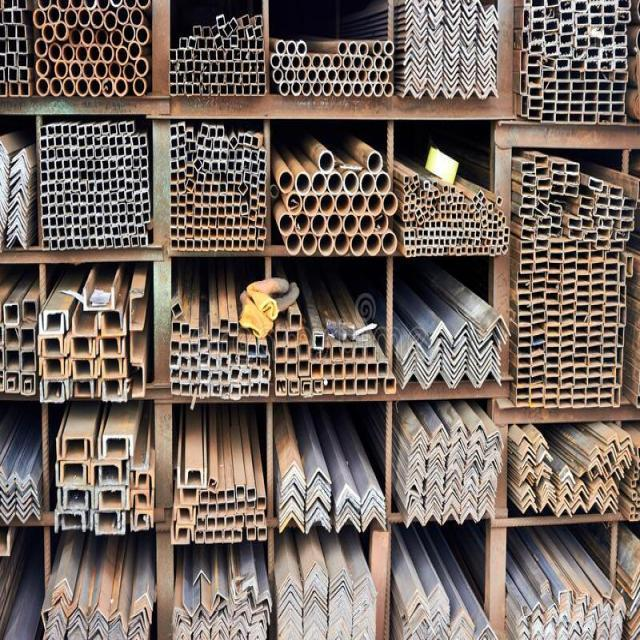pipe: (317, 150, 334, 173), (343, 171, 359, 195), (312, 171, 327, 196), (367, 150, 382, 175), (310, 214, 327, 236), (327, 171, 343, 194), (318, 233, 334, 256), (279, 169, 294, 193), (376, 171, 391, 195), (383, 192, 398, 216), (382, 230, 397, 254), (302, 232, 317, 256), (286, 232, 301, 256), (351, 192, 366, 216), (296, 172, 311, 195), (366, 233, 381, 256), (334, 232, 349, 255), (336, 194, 351, 217), (360, 173, 375, 196), (367, 193, 382, 216), (351, 233, 365, 257), (360, 212, 374, 236), (295, 212, 309, 235), (304, 193, 318, 216), (320, 193, 334, 216), (327, 213, 341, 235), (186, 468, 203, 486), (279, 213, 293, 234), (287, 193, 301, 214), (344, 214, 358, 235), (375, 212, 387, 232), (383, 40, 395, 56), (313, 331, 324, 348), (301, 379, 312, 396), (279, 81, 290, 98), (296, 40, 307, 57), (290, 314, 302, 329), (276, 380, 287, 396), (276, 39, 287, 55), (277, 331, 287, 348), (291, 80, 301, 97), (359, 41, 369, 58), (363, 55, 373, 72), (286, 40, 296, 57), (529, 75, 541, 89), (372, 41, 383, 56), (281, 53, 290, 71), (379, 362, 389, 378), (599, 72, 615, 82), (384, 82, 394, 98), (273, 68, 283, 84), (348, 41, 358, 57), (332, 54, 342, 70), (312, 54, 322, 70), (572, 70, 586, 81), (343, 81, 352, 98), (333, 80, 342, 97), (384, 56, 393, 73), (299, 361, 309, 376), (356, 380, 366, 395), (604, 273, 619, 283), (373, 82, 383, 97), (363, 82, 373, 97), (353, 82, 363, 97), (270, 54, 280, 69), (338, 41, 348, 56), (353, 55, 363, 70), (322, 54, 332, 69), (291, 56, 301, 71), (520, 51, 527, 72), (550, 205, 562, 217), (323, 81, 332, 97), (374, 56, 383, 72), (276, 348, 287, 361), (606, 251, 619, 262), (591, 315, 604, 326), (538, 204, 549, 217), (582, 196, 595, 207), (599, 115, 612, 126), (603, 15, 616, 26), (556, 112, 569, 123), (570, 114, 583, 125), (532, 7, 545, 18), (532, 19, 545, 30), (561, 12, 574, 23), (289, 332, 299, 346), (312, 364, 322, 378), (322, 348, 332, 362), (357, 364, 367, 378), (367, 380, 377, 394), (386, 379, 396, 393), (289, 381, 299, 395), (575, 337, 589, 347), (569, 218, 583, 228), (567, 174, 581, 184), (609, 188, 623, 198), (517, 387, 531, 397), (518, 327, 532, 337), (517, 348, 531, 358), (557, 82, 571, 92), (522, 30, 529, 50), (576, 36, 590, 46), (288, 347, 297, 362), (300, 345, 309, 360), (335, 380, 344, 395), (230, 322, 239, 337), (523, 198, 538, 207), (312, 81, 321, 96), (591, 179, 603, 190), (561, 356, 573, 367), (589, 366, 601, 377), (591, 14, 602, 26), (558, 70, 570, 81), (276, 363, 286, 376), (311, 349, 321, 362), (323, 380, 333, 393), (333, 347, 343, 360), (334, 364, 344, 377), (346, 380, 356, 393), (366, 347, 376, 360), (368, 364, 378, 377), (237, 341, 247, 354), (13, 11, 23, 24), (602, 376, 615, 386), (577, 285, 590, 295), (574, 357, 587, 367), (591, 304, 604, 314), (592, 252, 605, 262), (584, 232, 597, 242), (552, 163, 565, 173), (539, 217, 552, 227), (523, 187, 536, 197), (522, 164, 535, 174), (579, 209, 592, 219), (599, 219, 612, 229), (548, 316, 561, 326), (532, 345, 545, 355), (521, 262, 534, 272), (518, 315, 531, 325), (519, 337, 532, 347), (599, 81, 612, 91), (544, 81, 557, 91), (543, 92, 556, 102), (356, 348, 365, 362), (217, 15, 226, 29), (224, 23, 233, 37), (247, 25, 256, 39), (613, 115, 627, 124), (611, 104, 625, 113), (627, 256, 633, 277), (565, 187, 579, 196), (538, 180, 552, 189), (615, 230, 629, 239), (532, 312, 546, 321), (518, 304, 532, 313), (564, 262, 578, 271), (615, 72, 629, 81), (618, 1, 632, 10), (543, 70, 557, 79), (556, 92, 570, 101), (570, 104, 584, 113), (302, 55, 311, 69), (551, 227, 562, 238), (602, 38, 613, 49), (604, 4, 615, 15), (584, 113, 595, 124), (531, 31, 542, 42), (215, 34, 223, 49), (578, 274, 590, 284), (552, 185, 564, 195), (536, 157, 548, 167), (536, 251, 548, 261), (538, 228, 550, 238), (611, 199, 623, 209), (625, 199, 637, 209), (550, 242, 562, 252), (547, 346, 559, 356), (533, 292, 545, 302), (574, 398, 586, 408), (601, 61, 613, 71), (585, 102, 597, 112), (557, 102, 569, 112), (521, 74, 527, 94), (524, 7, 530, 27), (530, 99, 542, 109), (560, 35, 572, 45), (577, 25, 589, 35), (577, 15, 589, 25), (323, 365, 332, 378), (345, 364, 354, 377), (242, 15, 251, 28), (602, 367, 615, 376), (604, 326, 617, 335), (592, 294, 605, 303), (552, 175, 565, 184), (523, 219, 536, 228), (536, 239, 549, 248), (548, 305, 561, 314), (561, 346, 574, 355), (564, 285, 577, 294), (598, 104, 611, 113), (598, 93, 611, 102), (614, 36, 627, 45), (585, 93, 598, 102), (585, 82, 598, 91), (585, 72, 598, 81), (572, 82, 585, 91), (571, 94, 584, 103), (560, 2, 573, 11), (302, 82, 311, 95), (315, 381, 323, 395), (211, 24, 219, 38), (230, 17, 238, 31), (20, 83, 28, 97), (603, 357, 617, 365), (570, 230, 584, 238), (536, 168, 550, 176), (523, 177, 537, 185), (532, 303, 546, 311), (518, 272, 532, 280), (518, 294, 532, 302), (559, 398, 573, 406), (617, 13, 631, 21), (541, 114, 555, 122), (527, 66, 541, 74), (528, 55, 542, 63), (593, 283, 604, 293), (598, 197, 609, 207), (548, 273, 559, 283), (587, 397, 598, 407), (603, 26, 614, 36), (248, 344, 257, 356), (231, 387, 240, 399), (19, 69, 28, 81), (218, 504, 227, 516), (604, 347, 616, 356), (576, 315, 588, 324), (592, 273, 604, 282), (538, 191, 550, 200), (596, 209, 608, 218), (622, 210, 634, 219), (546, 293, 558, 302), (547, 336, 559, 345), (533, 280, 545, 289), (576, 368, 588, 377), (602, 50, 614, 59), (612, 93, 624, 102), (615, 61, 627, 70), (544, 103, 556, 112), (587, 62, 599, 71), (530, 43, 542, 52), (574, 50, 586, 59), (615, 386, 620, 407), (345, 348, 353, 361), (251, 368, 259, 381), (211, 328, 219, 341), (231, 370, 239, 383), (200, 339, 208, 352), (171, 341, 179, 354), (10, 83, 18, 96), (226, 517, 234, 530), (605, 285, 618, 293), (612, 242, 625, 250), (577, 327, 590, 335), (546, 285, 559, 293), (545, 399, 558, 407), (532, 324, 545, 332), (517, 399, 530, 407), (517, 369, 530, 377), (561, 336, 574, 344), (564, 252, 577, 260), (571, 60, 584, 68), (527, 110, 540, 118), (545, 22, 558, 30), (559, 47, 572, 55), (561, 25, 574, 33), (618, 328, 624, 345), (620, 287, 626, 304), (591, 26, 601, 36), (182, 385, 191, 396), (3, 12, 12, 23), (8, 41, 17, 52), (6, 54, 15, 65), (199, 505, 208, 516), (611, 210, 622, 219), (533, 366, 544, 375), (615, 24, 626, 33), (575, 3, 586, 12), (201, 354, 208, 368), (182, 324, 189, 338), (604, 317, 618, 324), (577, 243, 591, 250), (620, 222, 634, 229), (531, 377, 545, 384), (261, 383, 269, 395), (239, 355, 247, 367), (212, 385, 220, 397), (201, 370, 209, 382), (171, 369, 179, 381), (171, 356, 179, 368), (190, 371, 198, 383), (19, 41, 27, 53), (18, 56, 26, 68), (259, 528, 267, 540), (196, 531, 204, 543), (617, 349, 623, 365), (600, 398, 612, 406), (604, 337, 616, 345), (589, 335, 601, 343), (567, 164, 579, 172), (522, 231, 534, 239), (583, 220, 595, 228), (549, 254, 561, 262), (548, 327, 560, 335), (547, 358, 559, 366), (547, 377, 559, 385), (532, 398, 544, 406), (537, 263, 549, 271), (561, 370, 573, 378), (562, 315, 574, 323), (587, 389, 599, 397), (589, 378, 601, 386), (574, 388, 586, 396), (557, 60, 569, 68), (530, 89, 542, 97), (222, 386, 229, 399), (182, 343, 189, 356), (182, 358, 189, 371), (8, 26, 15, 39), (210, 491, 217, 504), (600, 388, 613, 395), (605, 306, 618, 313), (606, 297, 619, 304), (606, 265, 619, 272), (522, 244, 535, 251), (521, 254, 534, 261), (565, 242, 578, 249), (530, 388, 543, 395), (518, 283, 531, 290), (517, 379, 530, 386), (563, 296, 576, 303), (575, 379, 588, 386), (260, 357, 269, 367), (249, 357, 258, 367), (190, 330, 199, 340), (207, 518, 216, 528), (621, 307, 626, 325), (621, 264, 626, 282), (578, 263, 588, 272), (592, 326, 602, 335), (591, 5, 601, 14), (588, 49, 598, 58), (259, 345, 267, 356), (201, 385, 209, 396), (172, 383, 180, 394), (169, 50, 177, 61), (202, 62, 210, 73), (251, 85, 259, 96), (227, 84, 235, 95), (9, 69, 17, 80), (197, 518, 205, 529), (590, 347, 601, 355), (546, 388, 557, 396), (251, 383, 258, 395), (220, 341, 227, 353), (221, 319, 228, 331), (242, 373, 249, 385), (173, 322, 180, 334), (191, 343, 198, 355), (220, 84, 227, 96), (237, 486, 244, 498), (577, 297, 589, 304), (576, 307, 588, 314), (546, 368, 558, 375), (518, 360, 530, 367), (559, 389, 571, 396), (562, 379, 574, 386), (562, 307, 574, 314), (615, 49, 627, 56), (546, 47, 558, 54), (544, 34, 556, 41), (590, 39, 599, 48), (288, 365, 296, 375), (181, 372, 189, 382), (202, 85, 210, 95), (207, 39, 215, 49), (194, 27, 202, 37), (189, 38, 197, 48), (248, 529, 256, 539), (218, 491, 226, 501), (217, 517, 225, 527), (186, 166, 194, 176), (412, 173, 420, 183), (616, 367, 621, 383), (523, 95, 527, 115), (211, 356, 217, 369), (192, 384, 198, 397), (191, 357, 197, 370), (0, 82, 6, 95), (592, 264, 605, 270), (534, 274, 547, 280), (211, 343, 218, 354), (222, 356, 229, 367), (170, 73, 177, 84), (187, 60, 194, 71), (202, 50, 209, 61), (224, 39, 231, 50), (256, 16, 263, 27), (231, 36, 238, 47), (242, 40, 249, 51), (249, 39, 256, 50), (242, 62, 249, 73), (244, 85, 251, 96), (18, 26, 25, 37), (141, 157, 148, 168), (258, 498, 265, 509), (237, 501, 244, 512), (206, 531, 213, 542), (228, 503, 235, 514), (227, 217, 234, 228), (241, 215, 248, 226), (219, 205, 226, 216), (244, 172, 251, 183), (578, 253, 589, 260), (575, 348, 586, 355), (549, 264, 560, 271), (532, 356, 543, 363), (591, 358, 602, 365), (263, 369, 269, 381), (241, 387, 249, 396), (212, 373, 220, 382), (171, 240, 179, 249), (194, 241, 202, 250), (259, 229, 267, 238), (193, 50, 201, 59), (83, 238, 89, 250), (3, 1, 12, 9), (187, 152, 193, 164), (246, 516, 254, 525), (216, 530, 222, 542), (210, 506, 216, 518), (241, 205, 249, 214), (198, 172, 204, 184), (203, 161, 211, 170), (221, 140, 229, 149), (218, 196, 227, 204), (252, 136, 258, 148), (245, 149, 251, 161), (533, 336, 545, 342), (562, 327, 574, 333), (565, 276, 577, 282), (614, 84, 626, 90), (546, 9, 555, 17), (171, 183, 178, 193), (256, 217, 263, 227), (185, 73, 192, 83), (202, 74, 209, 84), (203, 28, 210, 38), (180, 39, 187, 49), (218, 74, 225, 84), (226, 73, 233, 83), (234, 74, 241, 84), (251, 74, 258, 84), (236, 85, 243, 95), (211, 85, 218, 95), (255, 28, 262, 38), (95, 172, 102, 182), (102, 137, 109, 147), (57, 216, 64, 226), (65, 205, 72, 215), (143, 213, 150, 223), (126, 191, 133, 201), (133, 158, 140, 168), (190, 141, 197, 151), (202, 218, 209, 228), (256, 514, 263, 524), (235, 517, 242, 527), (225, 530, 232, 540), (214, 140, 221, 150), (218, 127, 225, 137), (212, 161, 219, 171), (214, 173, 221, 183), (244, 134, 251, 144), (251, 163, 258, 173), (598, 242, 608, 249), (231, 355, 237, 366), (171, 126, 177, 137), (210, 239, 216, 250), (258, 239, 264, 250), (238, 28, 244, 39), (42, 206, 48, 217), (79, 126, 85, 137), (71, 125, 77, 136), (119, 124, 125, 135), (142, 180, 148, 191), (235, 530, 241, 541), (201, 490, 207, 501), (227, 490, 233, 501), (234, 205, 240, 216), (252, 151, 258, 162), (497, 196, 503, 207), (598, 231, 609, 237), (532, 0, 545, 5), (198, 40, 206, 48), (131, 238, 139, 246), (170, 161, 178, 169), (553, 218, 561, 226), (186, 228, 193, 237), (259, 206, 266, 215), (170, 85, 177, 94), (177, 74, 184, 83), (194, 73, 201, 82), (178, 63, 185, 72), (226, 51, 233, 60), (259, 86, 266, 95), (241, 51, 248, 60), (219, 63, 226, 72), (227, 62, 234, 71), (243, 74, 250, 83), (43, 240, 50, 249), (49, 217, 56, 226), (50, 228, 57, 237), (60, 240, 67, 249), (74, 239, 81, 248), (89, 216, 96, 225), (72, 206, 79, 215), (19, 0, 26, 9), (40, 150, 47, 159), (40, 128, 47, 137), (65, 193, 72, 202), (88, 183, 95, 192), (96, 183, 103, 192), (112, 215, 119, 224), (186, 132, 193, 141), (247, 501, 256, 508), (234, 194, 241, 203), (171, 229, 177, 239), (171, 195, 177, 205), (180, 240, 186, 250), (179, 183, 185, 193), (179, 171, 185, 181), (171, 149, 177, 159), (226, 240, 232, 250), (241, 239, 247, 249), (249, 239, 255, 249), (259, 184, 265, 194), (259, 161, 265, 171), (170, 61, 176, 71), (178, 84, 184, 94), (195, 61, 201, 71), (186, 85, 192, 95), (194, 85, 200, 95), (218, 50, 224, 60), (257, 40, 263, 50), (234, 49, 240, 59), (212, 62, 218, 72), (211, 74, 217, 84), (251, 63, 257, 73), (52, 240, 58, 250), (67, 239, 73, 249), (80, 171, 86, 181), (80, 159, 86, 169), (112, 227, 118, 237), (90, 226, 96, 236), (79, 138, 85, 148), (41, 184, 47, 194), (71, 137, 77, 147), (49, 172, 55, 182), (120, 215, 126, 225), (96, 195, 102, 205), (88, 172, 94, 182), (66, 216, 72, 226), (104, 204, 110, 214), (128, 203, 134, 213), (134, 183, 140, 193), (133, 170, 139, 180), (119, 179, 125, 189), (118, 146, 124, 156), (125, 146, 131, 156), (203, 195, 209, 205), (248, 488, 254, 498), (219, 218, 225, 228), (195, 228, 201, 238), (235, 217, 241, 227), (211, 206, 217, 216), (204, 206, 210, 216), (206, 172, 212, 182), (198, 148, 203, 160), (202, 124, 207, 136), (236, 173, 242, 183), (228, 172, 234, 182), (229, 150, 235, 160), (244, 161, 250, 171), (404, 185, 410, 195), (170, 207, 177, 215), (258, 52, 265, 60), (250, 52, 257, 60), (42, 196, 49, 204), (55, 138, 63, 145), (49, 162, 56, 170), (49, 196, 56, 204), (142, 193, 149, 201), (133, 149, 140, 157), (195, 208, 202, 216), (203, 185, 210, 193), (195, 184, 202, 192), (424, 213, 431, 221), (403, 185, 410, 193), (222, 372, 227, 383), (219, 239, 224, 250), (236, 62, 241, 73), (198, 135, 203, 146), (228, 160, 233, 171), (251, 199, 256, 210), (482, 217, 487, 228), (171, 217, 177, 226), (180, 196, 186, 205), (171, 138, 177, 147), (259, 195, 265, 204), (259, 173, 265, 182), (178, 50, 184, 59), (210, 51, 216, 60), (258, 63, 264, 72), (50, 207, 56, 216), (82, 228, 88, 237), (87, 148, 93, 157), (72, 148, 78, 157), (72, 159, 78, 168), (72, 171, 78, 180), (42, 162, 48, 171), (48, 126, 54, 135), (56, 127, 62, 136), (64, 137, 70, 146), (64, 149, 70, 158), (49, 184, 55, 193), (65, 170, 71, 179), (104, 194, 110, 203), (103, 161, 109, 170), (103, 125, 109, 134), (142, 147, 148, 156), (127, 122, 133, 131), (111, 127, 117, 136), (59, 228, 65, 237), (128, 214, 134, 223), (136, 215, 142, 224), (136, 204, 142, 213), (126, 169, 132, 178), (111, 148, 117, 157), (111, 180, 117, 189), (111, 193, 117, 202), (119, 192, 125, 201), (127, 181, 133, 190), (203, 229, 209, 238), (195, 219, 201, 228), (227, 229, 233, 238), (218, 228, 224, 237), (242, 228, 248, 237), (214, 151, 220, 160), (210, 128, 216, 137), (228, 184, 234, 193), (251, 176, 257, 185), (458, 220, 464, 229), (419, 217, 425, 226), (404, 176, 410, 185), (469, 204, 475, 213), (172, 172, 177, 182), (187, 240, 192, 250), (179, 135, 184, 145), (179, 125, 184, 135), (187, 216, 192, 226), (187, 204, 192, 214), (203, 240, 208, 250), (234, 239, 239, 249), (260, 74, 265, 84), (81, 183, 86, 193), (42, 172, 47, 182), (63, 124, 68, 134), (104, 171, 109, 181), (234, 229, 239, 239), (196, 195, 201, 205), (212, 185, 217, 195), (206, 139, 211, 149), (222, 172, 227, 182), (220, 184, 225, 194), (237, 150, 242, 160), (236, 161, 241, 171), (251, 187, 256, 197), (123, 239, 130, 246), (138, 227, 145, 234), (110, 161, 117, 168), (118, 159, 125, 166), (434, 239, 441, 246), (186, 50, 192, 58), (81, 217, 87, 225), (80, 194, 86, 202), (91, 239, 97, 247), (99, 239, 105, 247), (115, 238, 121, 246), (87, 136, 93, 144), (73, 182, 79, 190), (73, 194, 79, 202), (41, 140, 47, 148), (57, 150, 63, 158), (64, 160, 70, 168), (74, 228, 80, 236), (57, 172, 63, 180), (105, 216, 111, 224), (95, 161, 101, 169), (95, 137, 101, 145), (95, 148, 101, 156), (110, 138, 116, 146), (116, 137, 122, 145), (125, 137, 131, 145), (133, 138, 139, 146), (94, 127, 100, 135), (73, 217, 79, 225), (66, 228, 72, 236), (112, 206, 118, 214), (120, 204, 126, 212), (143, 203, 149, 211), (118, 170, 124, 178), (110, 170, 116, 178), (211, 229, 217, 237), (211, 197, 217, 205), (416, 239, 422, 247), (445, 238, 451, 246), (481, 209, 487, 217), (473, 195, 479, 203), (179, 228, 184, 237), (179, 218, 184, 227), (179, 207, 184, 216), (179, 160, 184, 169), (260, 150, 265, 159), (43, 217, 48, 226), (80, 149, 85, 158), (98, 228, 103, 237), (105, 227, 110, 236), (86, 125, 91, 134), (66, 182, 71, 191), (59, 207, 64, 216), (88, 161, 93, 170), (104, 149, 109, 158), (136, 194, 141, 203), (210, 218, 215, 227), (206, 150, 211, 159), (424, 180, 429, 189), (416, 198, 421, 207), (431, 207, 436, 216), (411, 183, 416, 192), (180, 147, 184, 158), (49, 151, 55, 158), (57, 196, 63, 203), (129, 226, 135, 233), (451, 239, 457, 246), (434, 213, 441, 219), (421, 190, 427, 197), (426, 200, 432, 207), (187, 194, 192, 202), (44, 228, 48, 238), (82, 208, 87, 216), (49, 139, 54, 147), (98, 216, 103, 224), (104, 182, 109, 190), (140, 137, 145, 145), (142, 170, 147, 178), (126, 159, 131, 167), (250, 228, 255, 236), (227, 206, 232, 214), (239, 134, 243, 144), (250, 210, 254, 220), (406, 249, 411, 257), (493, 231, 498, 239), (471, 230, 476, 238), (430, 230, 435, 238), (476, 222, 481, 230), (466, 221, 471, 229), (458, 212, 463, 220), (451, 186, 456, 194), (434, 190, 439, 198), (441, 204, 446, 212), (457, 203, 462, 211), (454, 196, 459, 204), (441, 194, 446, 202), (499, 211, 503, 221), (483, 198, 488, 206), (141, 238, 147, 244), (107, 239, 113, 245), (58, 161, 62, 170), (57, 185, 63, 191), (122, 228, 128, 234), (443, 220, 447, 229), (436, 220, 440, 229), (448, 194, 452, 203), (422, 206, 428, 212), (89, 206, 94, 213), (439, 247, 444, 254), (491, 249, 496, 256), (482, 230, 487, 237), (465, 230, 470, 237), (459, 230, 464, 237), (447, 229, 452, 236), (418, 230, 423, 237), (423, 239, 428, 246), (429, 239, 434, 246), (457, 239, 462, 246), (468, 239, 473, 246), (475, 239, 480, 246), (493, 215, 498, 222), (425, 221, 430, 228), (452, 212, 457, 219), (464, 212, 469, 219), (422, 199, 427, 206), (446, 205, 451, 212), (452, 205, 457, 212), (477, 204, 482, 211), (89, 195, 93, 203), (422, 248, 426, 256), (450, 247, 454, 255), (457, 247, 461, 255), (499, 229, 503, 237), (476, 230, 480, 238), (424, 229, 428, 237), (488, 204, 492, 212), (471, 222, 475, 230), (488, 214, 492, 222), (489, 223, 493, 231), (453, 221, 457, 229), (434, 180, 438, 188), (13, 1, 18, 7), (96, 207, 102, 212), (227, 196, 232, 202), (405, 240, 410, 246), (404, 231, 409, 237), (403, 206, 408, 212), (411, 194, 416, 200), (410, 231, 415, 237), (417, 249, 422, 255), (462, 248, 467, 254), (473, 247, 478, 253), (496, 248, 501, 254), (492, 240, 497, 246), (499, 239, 504, 245), (439, 240, 444, 246), (463, 239, 468, 245), (447, 221, 452, 227), (459, 196, 464, 202), (444, 186, 449, 192), (416, 211, 422, 216), (411, 204, 415, 211), (442, 230, 446, 237), (494, 223, 498, 230), (476, 212, 480, 219), (480, 191, 484, 198), (411, 241, 416, 246), (479, 248, 484, 253), (505, 230, 510, 235), (436, 230, 441, 235), (446, 213, 451, 218), (407, 222, 411, 228), (428, 247, 431, 255), (433, 248, 437, 254), (468, 248, 472, 254), (485, 247, 488, 255), (503, 247, 507, 253), (504, 237, 508, 243), (503, 217, 506, 225), (432, 221, 435, 229), (441, 213, 445, 219), (429, 190, 432, 198), (470, 214, 474, 220), (488, 239, 491, 246), (453, 230, 456, 237), (499, 221, 502, 228), (410, 214, 414, 219), (413, 222, 417, 227), (482, 241, 486, 246), (463, 205, 467, 210), (405, 196, 408, 202), (412, 250, 415, 256), (488, 231, 491, 237), (404, 214, 407, 219), (445, 249, 448, 254)
